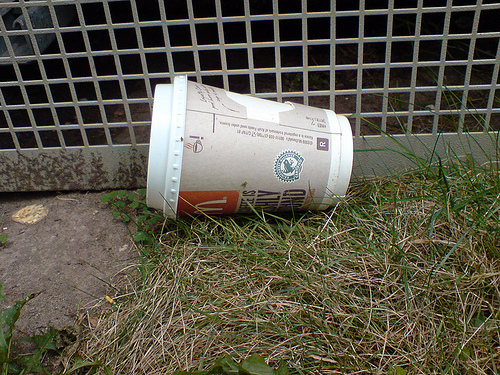litter: (146, 79, 353, 218)
